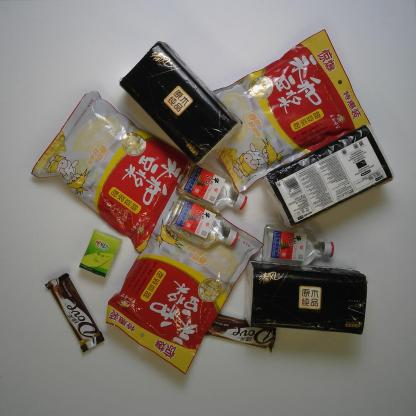Alcohol: (167, 196, 239, 248), (177, 162, 248, 212), (263, 224, 333, 266)
Chocolate: (45, 272, 104, 352), (199, 309, 277, 353)
Instant Drink: (104, 186, 263, 375), (190, 30, 370, 194), (31, 92, 199, 254)
Tissue: (119, 41, 242, 164), (262, 125, 394, 228), (244, 258, 366, 336), (79, 230, 122, 277)
